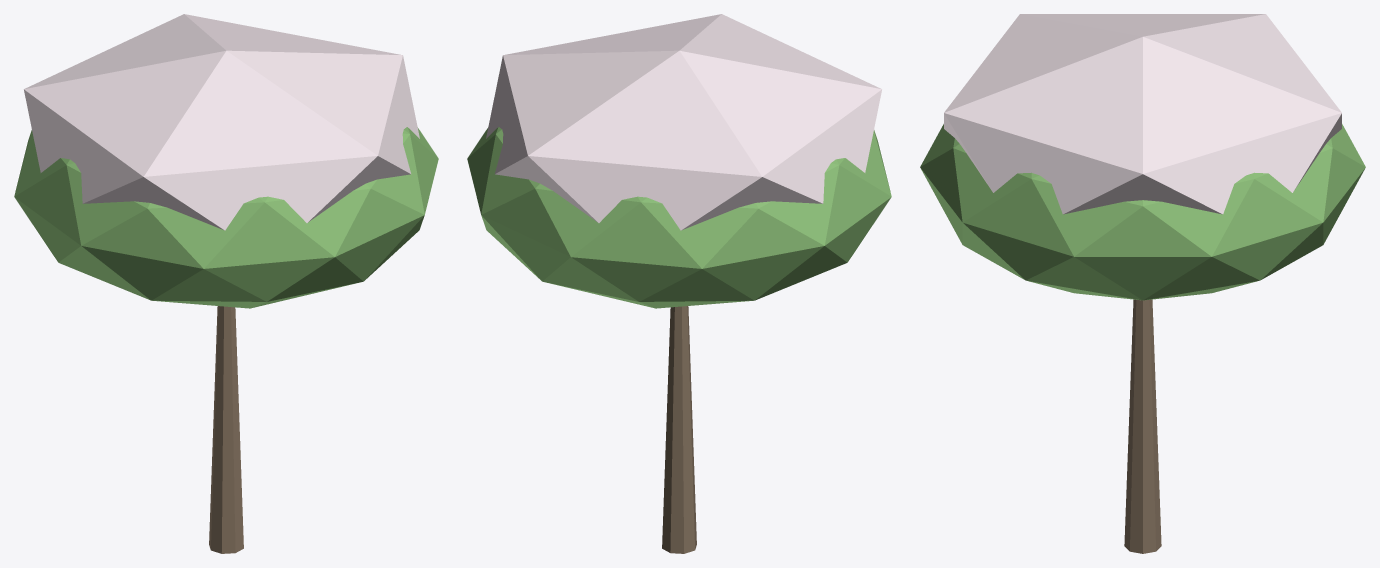
Rendered from dogwood.glb.
3 views of the same model, side by side, from view 1: azimuth 30°, elevation 25°; view 2: azimuth 150°, elevation 25°; view 3: azimuth 270°, elevation 25° (orthographic). The views are drawn at different scales.
Visible parts, largest first — view 1: Dogwood; view 2: Dogwood; view 3: Dogwood.
Part boxes in pixels (x1,y1,x2,y2): Dogwood: (14, 14, 438, 553); Dogwood: (467, 14, 891, 553); Dogwood: (920, 14, 1365, 553).
Bounding box in the file's own units: 0.913 × 1.21 × 0.96.
